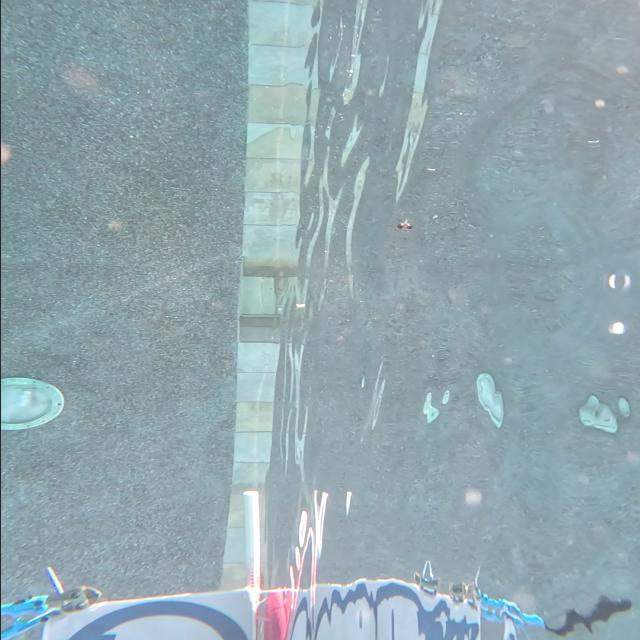blue_side: (52, 595, 244, 640)
